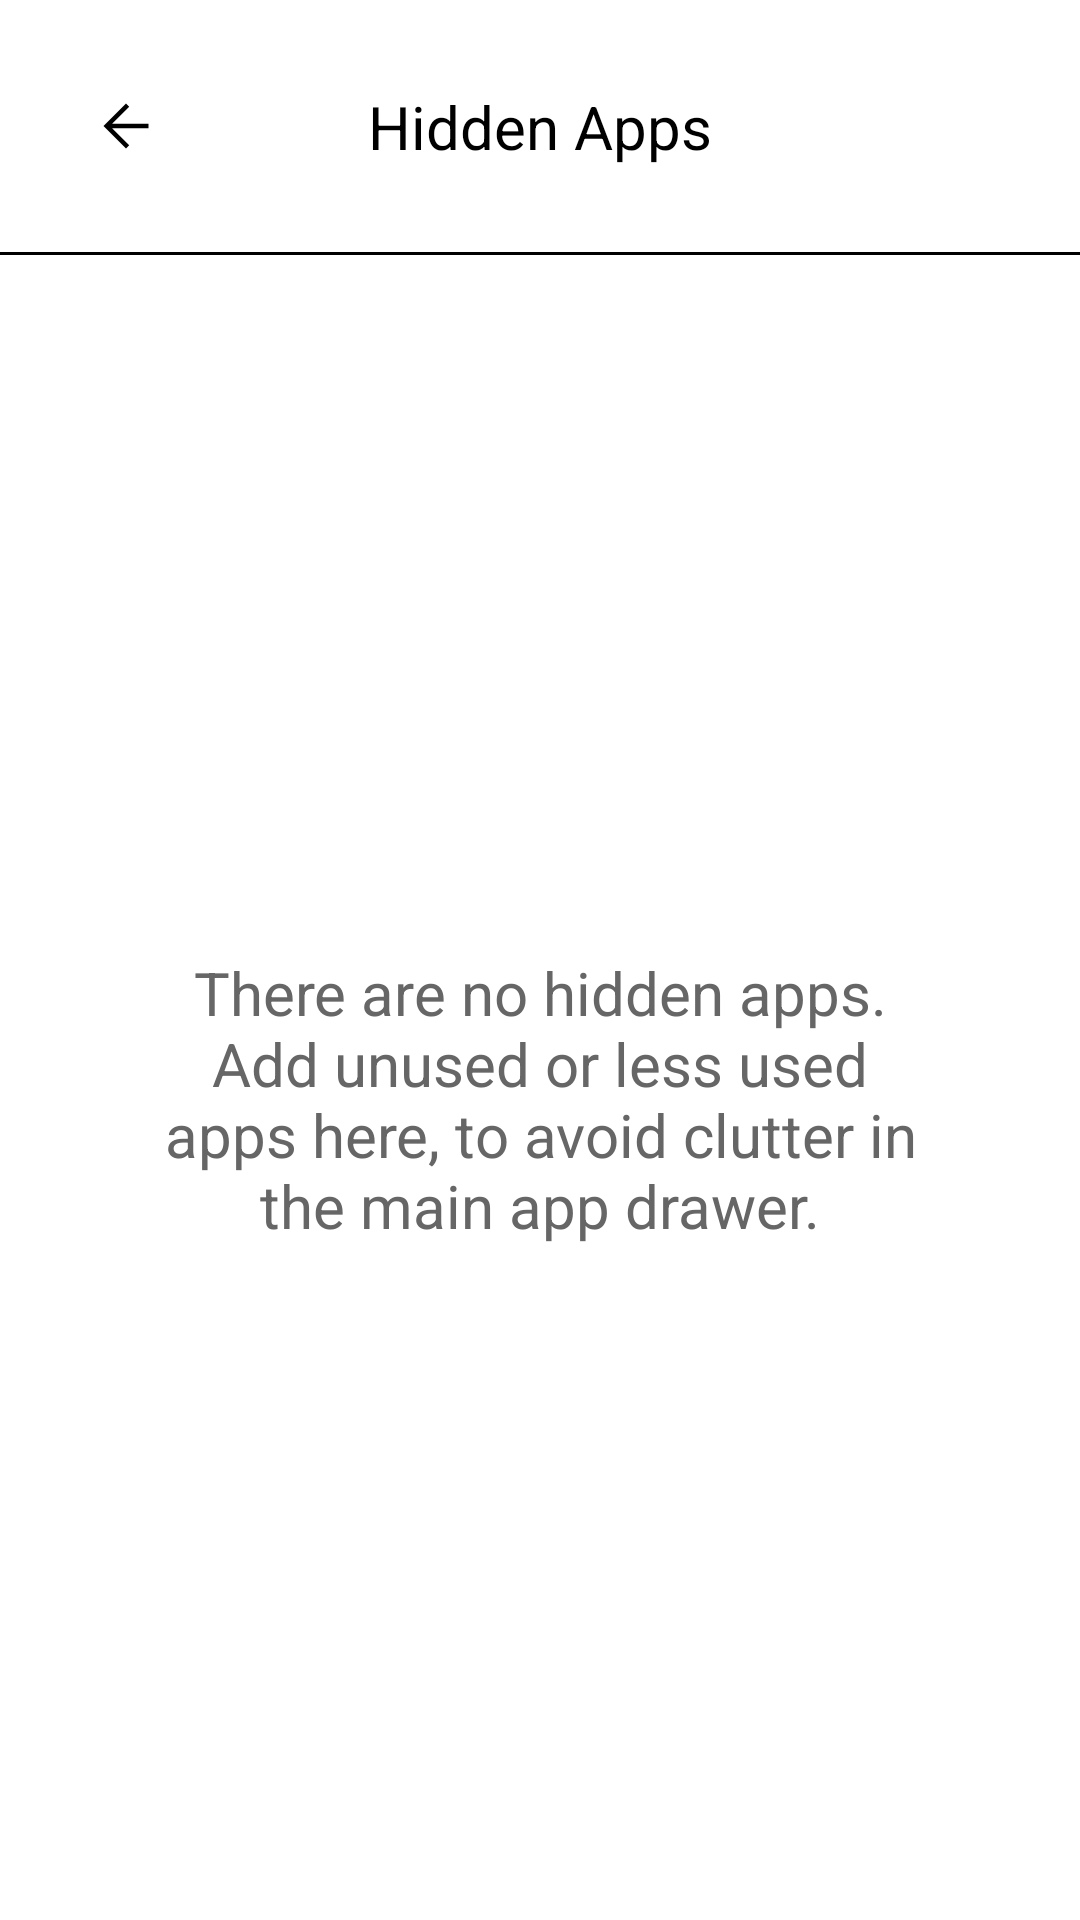

Icon click points for this 1080 x 1920 phone screenshot, format point (x, y):
Back btn: point (126, 126)
